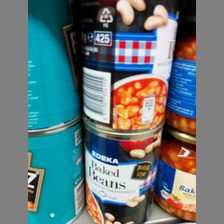beans: (83, 1, 171, 129), (79, 120, 160, 224)
